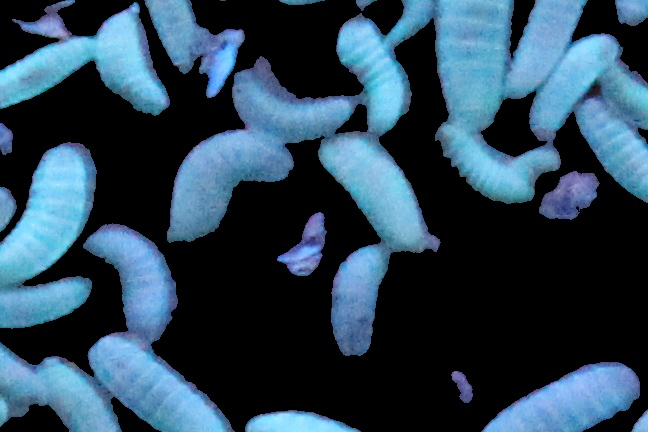larvae: (166, 136, 296, 243), (1, 142, 98, 284), (90, 337, 233, 431), (316, 135, 426, 253), (484, 361, 640, 432), (83, 224, 175, 343), (434, 1, 513, 130), (530, 33, 627, 138), (231, 67, 354, 141), (335, 15, 412, 132), (91, 10, 171, 114), (435, 119, 533, 202), (573, 99, 648, 207), (502, 1, 584, 98), (1, 38, 95, 112), (331, 245, 389, 357), (37, 357, 119, 432), (1, 276, 92, 331), (142, 1, 196, 73), (242, 407, 363, 432), (603, 64, 648, 126), (1, 341, 42, 408), (506, 139, 562, 181), (386, 1, 432, 51)
